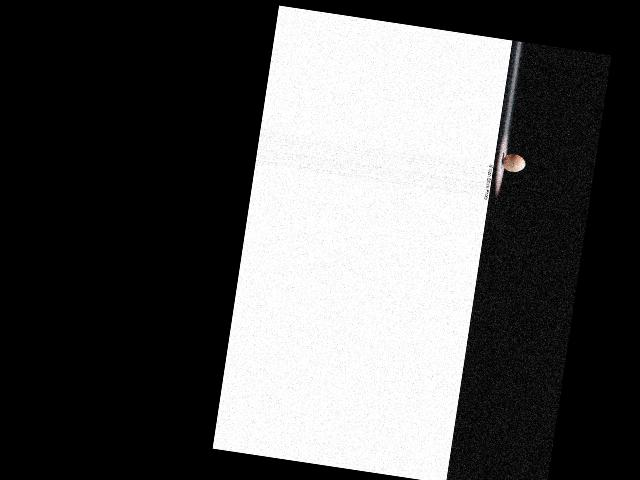egg: (500, 152, 526, 173)
